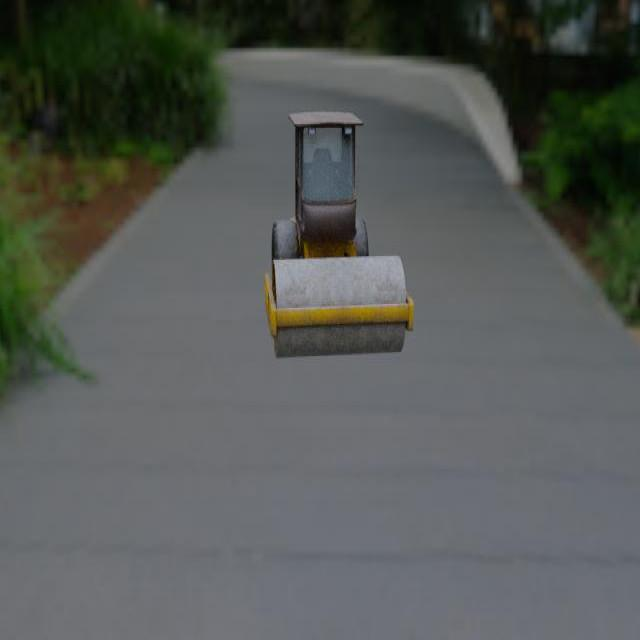Roller: (264, 110, 414, 358)
